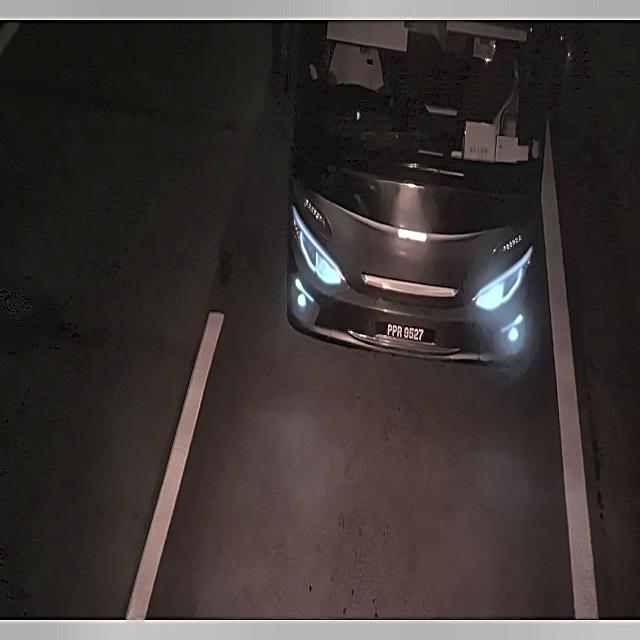car: (372, 314, 440, 352)
